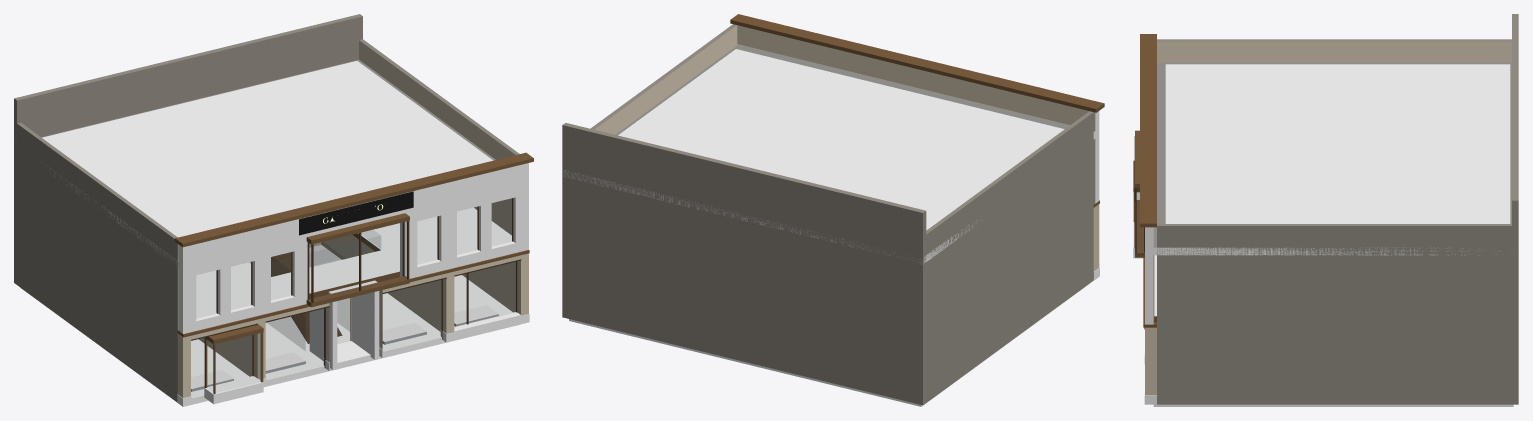
File: galerie_dor_lod2.glb
The picture shows the model from 3 angles, left to right: view 1: azimuth 30°, elevation 25°; view 2: azimuth 150°, elevation 25°; view 3: azimuth 270°, elevation 25°; orthographic projection. The views are drawn at different scales.
Parts seen in each view (by area): view 1: B04_LOD2_BUILDING_EXTERIOR_Stone, B04_LOD2_BUILDING_EXTERIOR_Roof, B04_LOD2_BUILDING_EXTERIOR_RearInterface, B04_LOD2_BUILDING_INTERIOR_GroundSlab, B04_LOD2_FACADE_DETAILS_Bronze, B04_LOD2_BUILDING_INTERIOR_Slabs, B04_LOD2_BUILDING_INTERIOR_Partitions, B04_LOD2_DISPLAY_OBJECTS_Fashion, B04_LOD2_SIGNAGE_Brand, B04_LOD2_FACADE_DETAILS_BayWindow, B04_LOD2_BUILDING_INTERIOR_HallGlass, B04_LOD2_GLASS_SYSTEM_BayWinFrame (+2 smaller); view 2: B04_LOD2_BUILDING_EXTERIOR_Stone, B04_LOD2_BUILDING_EXTERIOR_Roof, B04_LOD2_BUILDING_EXTERIOR_RearInterface, B04_LOD2_FACADE_DETAILS_Bronze, B04_LOD2_BUILDING_INTERIOR_GroundSlab; view 3: B04_LOD2_BUILDING_EXTERIOR_Stone, B04_LOD2_BUILDING_EXTERIOR_Roof, B04_LOD2_FACADE_DETAILS_Bronze, B04_LOD2_BUILDING_EXTERIOR_RearInterface, B04_LOD2_BUILDING_INTERIOR_GroundSlab, B04_LOD2_FACADE_DETAILS_BayWindow.
Part boxes in pixels (box(x1,y1,x2,y2)): B04_LOD2_BUILDING_EXTERIOR_Stone: box(14, 39, 529, 406); B04_LOD2_BUILDING_EXTERIOR_Roof: box(16, 59, 528, 271); B04_LOD2_BUILDING_EXTERIOR_RearInterface: box(14, 14, 362, 284); B04_LOD2_BUILDING_INTERIOR_GroundSlab: box(21, 245, 520, 406); B04_LOD2_FACADE_DETAILS_Bronze: box(175, 152, 533, 404); B04_LOD2_BUILDING_INTERIOR_Slabs: box(196, 207, 511, 317); B04_LOD2_BUILDING_INTERIOR_Partitions: box(198, 235, 440, 376); B04_LOD2_DISPLAY_OBJECTS_Fashion: box(191, 305, 498, 391); B04_LOD2_SIGNAGE_Brand: box(299, 191, 413, 235); B04_LOD2_FACADE_DETAILS_BayWindow: box(306, 213, 409, 307); B04_LOD2_BUILDING_INTERIOR_HallGlass: box(250, 242, 349, 349); B04_LOD2_GLASS_SYSTEM_BayWinFrame: box(307, 221, 409, 302); B04_LOD2_BUILDING_EXTERIOR_Stone: box(562, 24, 1099, 405); B04_LOD2_BUILDING_EXTERIOR_Roof: box(563, 44, 1099, 264); B04_LOD2_BUILDING_EXTERIOR_RearInterface: box(562, 123, 926, 402); B04_LOD2_FACADE_DETAILS_Bronze: box(730, 14, 1104, 207); B04_LOD2_BUILDING_INTERIOR_GroundSlab: box(569, 283, 1090, 406); B04_LOD2_BUILDING_EXTERIOR_Stone: box(1144, 39, 1518, 404); B04_LOD2_BUILDING_EXTERIOR_Roof: box(1145, 63, 1511, 255); B04_LOD2_FACADE_DETAILS_Bronze: box(1133, 34, 1156, 329); B04_LOD2_BUILDING_EXTERIOR_RearInterface: box(1512, 14, 1518, 395); B04_LOD2_BUILDING_INTERIOR_GroundSlab: box(1153, 404, 1513, 406); B04_LOD2_FACADE_DETAILS_BayWindow: box(1135, 130, 1144, 257).
Size of the model in its own units: 26.4 by 13.55 by 22.7.
